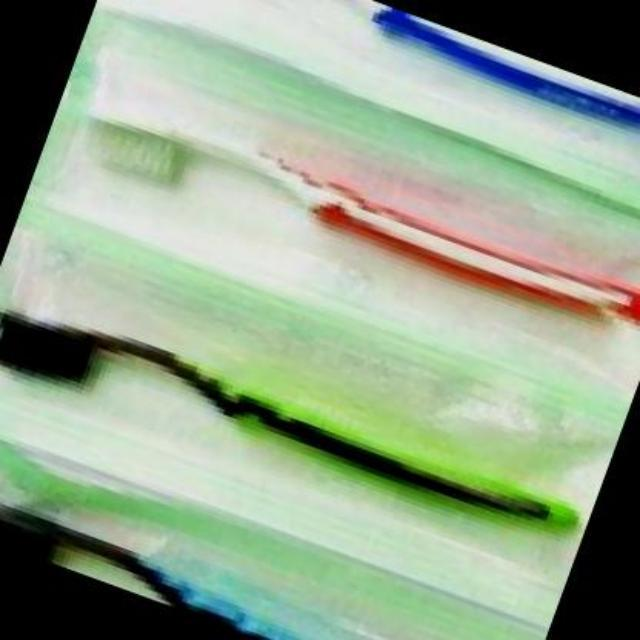toothbrush: (44, 40, 638, 400), (1, 243, 574, 592), (128, 0, 638, 184), (0, 464, 496, 638)
